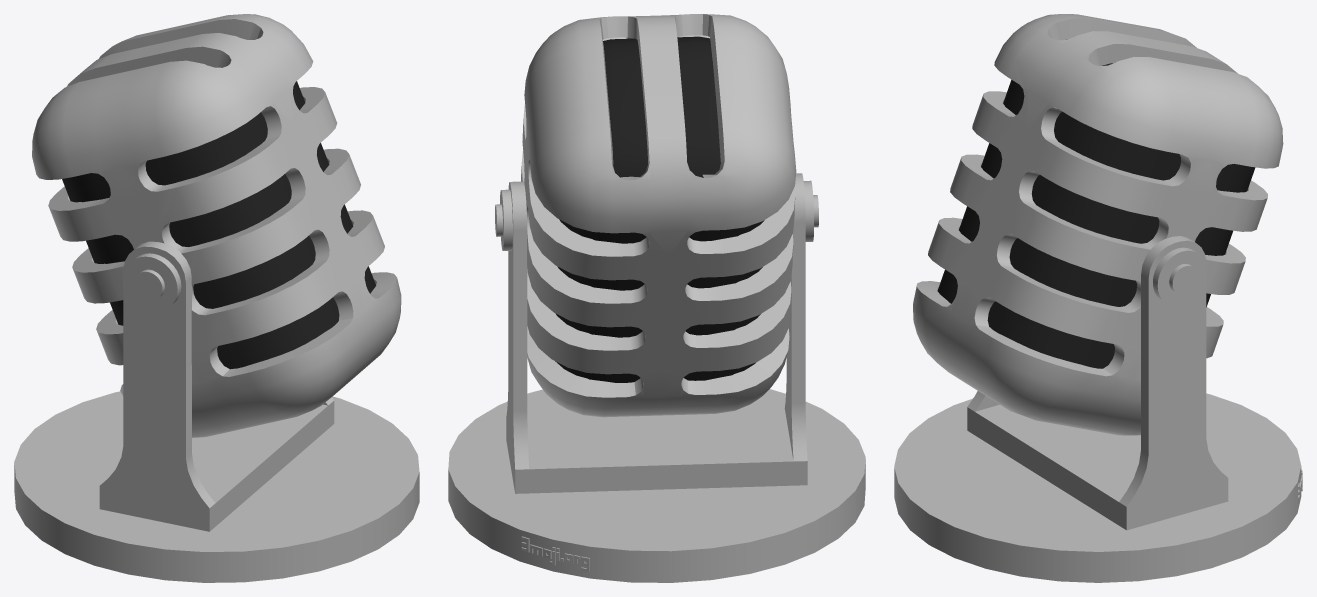
The model's file is studio_microphone.fbx.
The picture shows the model from 3 angles, left to right: view 1: azimuth 30°, elevation 25°; view 2: azimuth 150°, elevation 25°; view 3: azimuth 270°, elevation 25°; orthographic projection. The views are drawn at different scales.
Parts seen in each view (by area): view 1: Cube.848; view 2: Cube.848; view 3: Cube.848.
Boxes of the visible parts, x1=… form: Cube.848: x1=14, y1=14, x2=419, y2=582; Cube.848: x1=448, y1=14, x2=865, y2=582; Cube.848: x1=894, y1=14, x2=1302, y2=582.
Size of the model in its own units: 171 by 213 by 172.
Materials: 1 (1 with a texture image).
